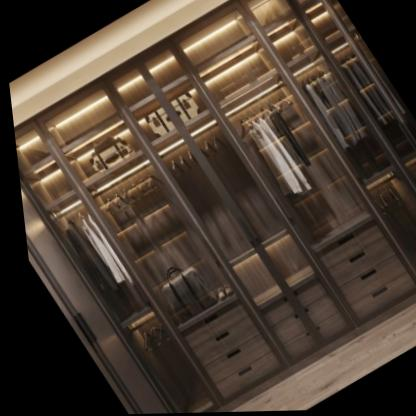Transparent Closet: (11, 0, 416, 414), (287, 0, 416, 204)
